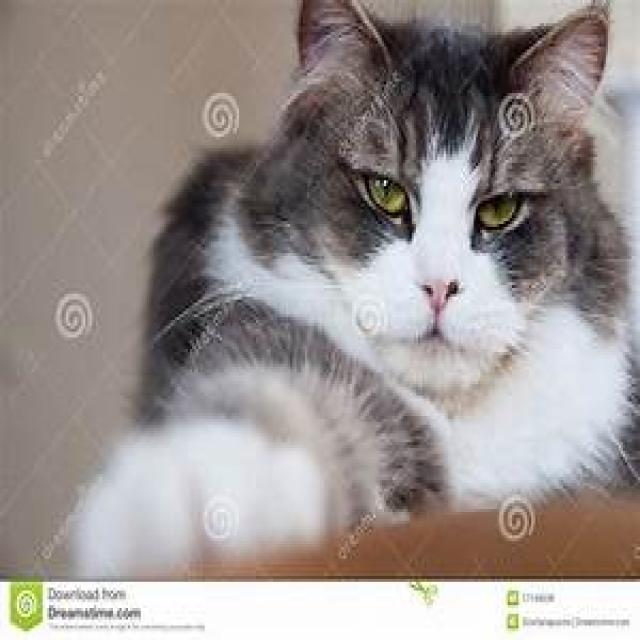cat: (60, 0, 638, 579)
